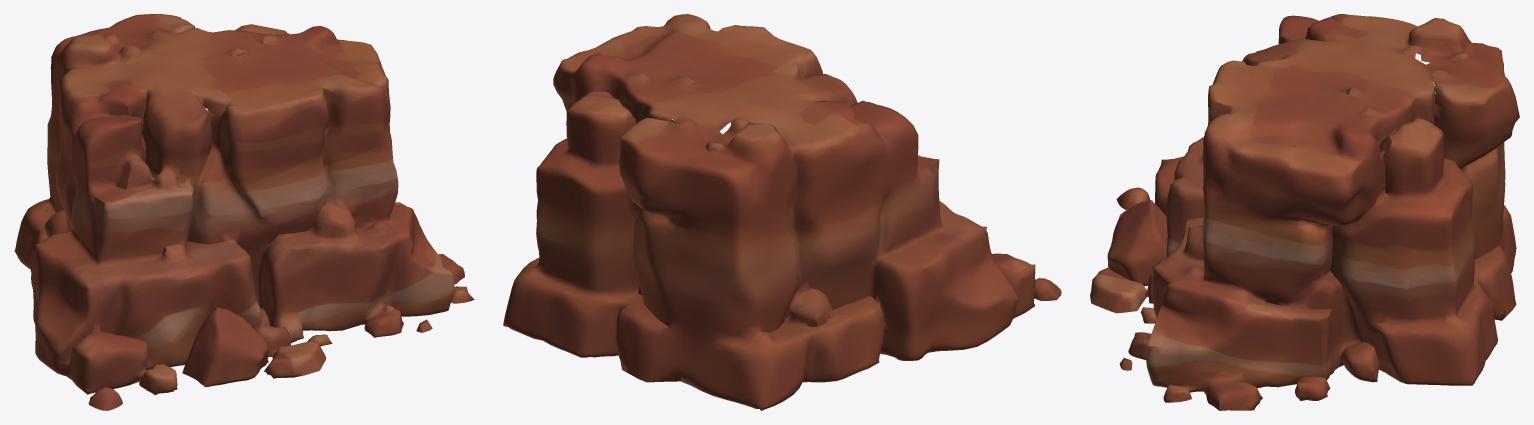
The model's file is mesa_chunk.glb.
The picture shows the model from 3 angles, left to right: view 1: azimuth 30°, elevation 25°; view 2: azimuth 150°, elevation 25°; view 3: azimuth 270°, elevation 25°; orthographic projection. The views are drawn at different scales.
Parts seen in each view (by area): view 1: tripo_node_2d9c6f49; view 2: tripo_node_2d9c6f49; view 3: tripo_node_2d9c6f49.
Part boxes in pixels (x1,y1,x2,y2): tripo_node_2d9c6f49: (14,14,474,410); tripo_node_2d9c6f49: (503,14,1061,410); tripo_node_2d9c6f49: (1090,14,1519,410).
Size of the model in its own units: 99.98 by 52.58 by 84.22.
1 material, 1 textured.
